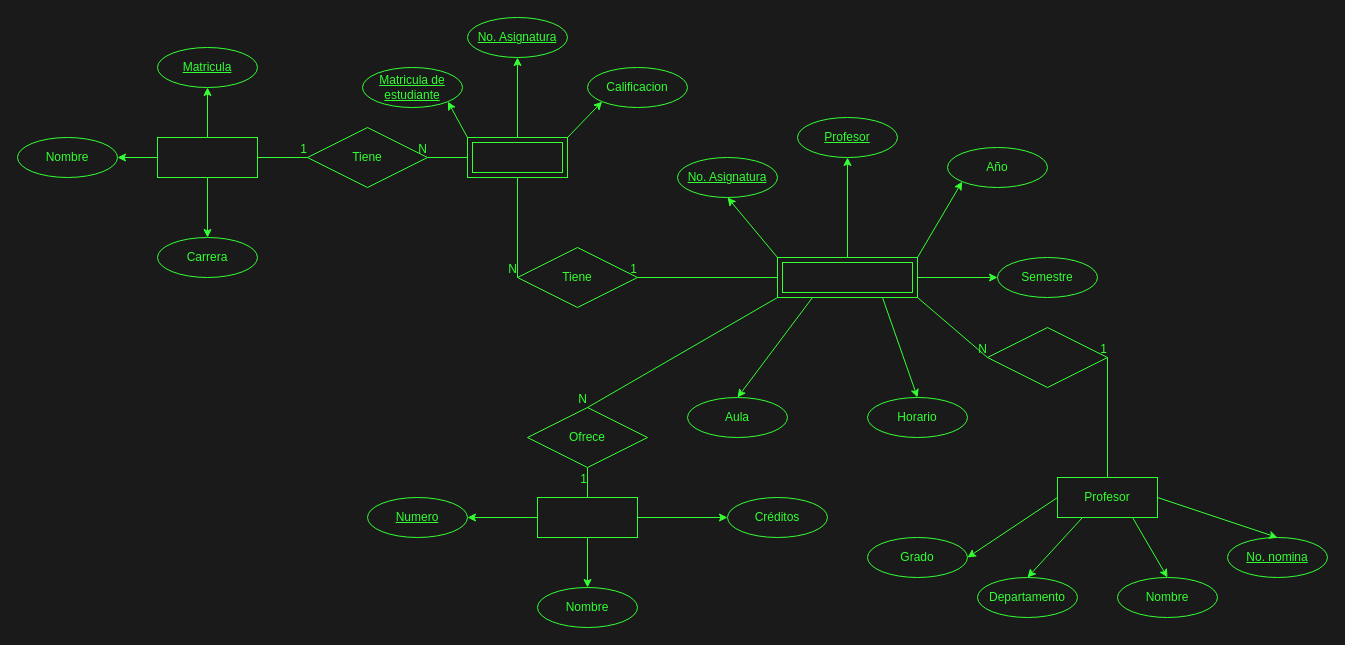
Some shapes in this 1345 by 645 pixel diagram are drawn without their labels. The shapes that lost their labels are listed below. From the top down, each one's centre as x and y in pixels, then its label:
At (x=207, y=157): "Estudiante".
At (x=517, y=157): "Matricula en Asignatura".
At (x=847, y=277): "Oferta de asignatura".
At (x=1047, y=357): "Imparte".
At (x=587, y=517): "Asignatura".
